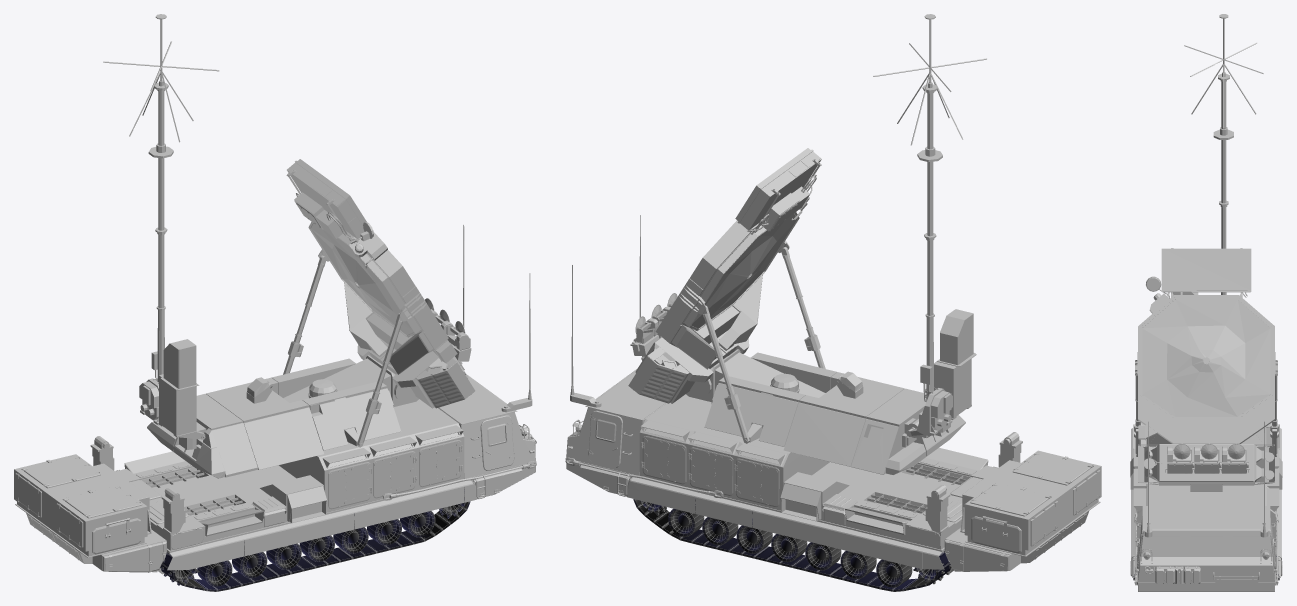
Rendered from Grill Pan.fbx.
The picture shows the model from 3 angles, left to right: view 1: azimuth 30°, elevation 25°; view 2: azimuth 150°, elevation 25°; view 3: azimuth 270°, elevation 25°; orthographic projection. The views are drawn at different scales.
Visible parts, largest first — view 1: Grill Pan, RadarBase, Radar, Gus; view 2: Grill Pan, RadarBase, Radar, Gus; view 3: Radar, Grill Pan, RadarBase, Gus.
Boxes of the visible parts, x1,y1,x2,y2 form: Grill Pan: (14, 224, 536, 574); RadarBase: (103, 14, 418, 478); Radar: (286, 159, 475, 408); Gus: (160, 489, 470, 591); Grill Pan: (565, 215, 1101, 573); RadarBase: (686, 14, 986, 474); Radar: (628, 148, 821, 403); Gus: (633, 498, 951, 591); Radar: (1135, 248, 1277, 485); Grill Pan: (1130, 421, 1282, 591); RadarBase: (1134, 14, 1278, 491); Gus: (1133, 556, 1279, 582).
Size of the model in its own units: 5.38 by 6.09 by 1.78.
